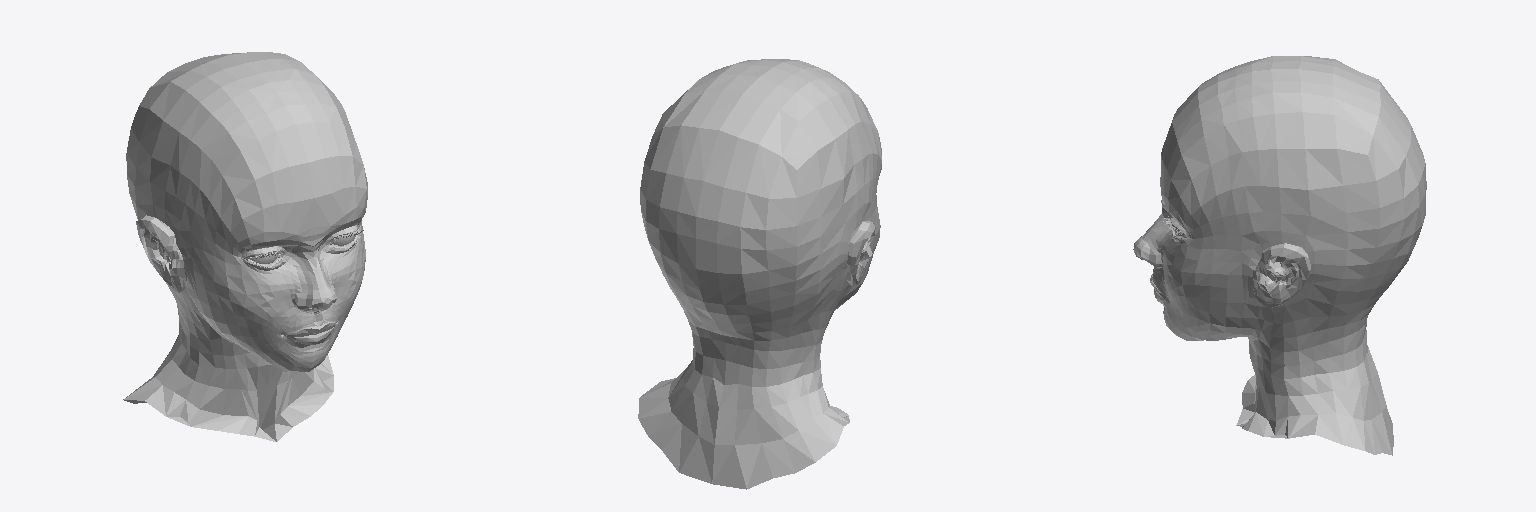
File: Head.obj
3 renders of one model, left to right at view 1: azimuth 30°, elevation 25°; view 2: azimuth 150°, elevation 25°; view 3: azimuth 270°, elevation 25°, orthographic.
Parts seen in each view (by area): view 1: Mesh; view 2: Mesh; view 3: Mesh.
Boxes of the visible parts, x1,y1,x2,y2 form: Mesh: [123, 52, 367, 441]; Mesh: [638, 59, 881, 489]; Mesh: [1133, 56, 1426, 455].
Size of the model in its own units: 18.6 by 30.7 by 21.91.